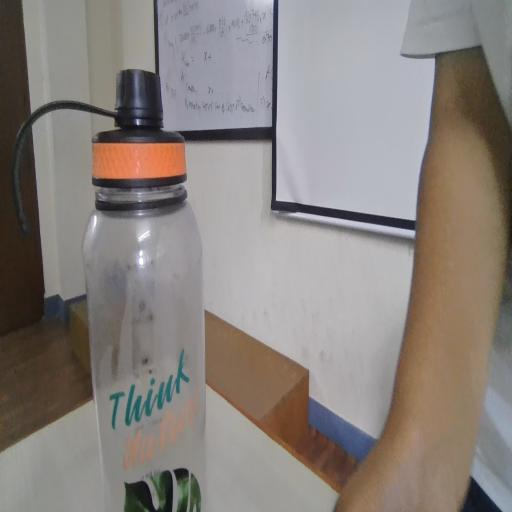Bottle: (94, 72, 231, 496)
